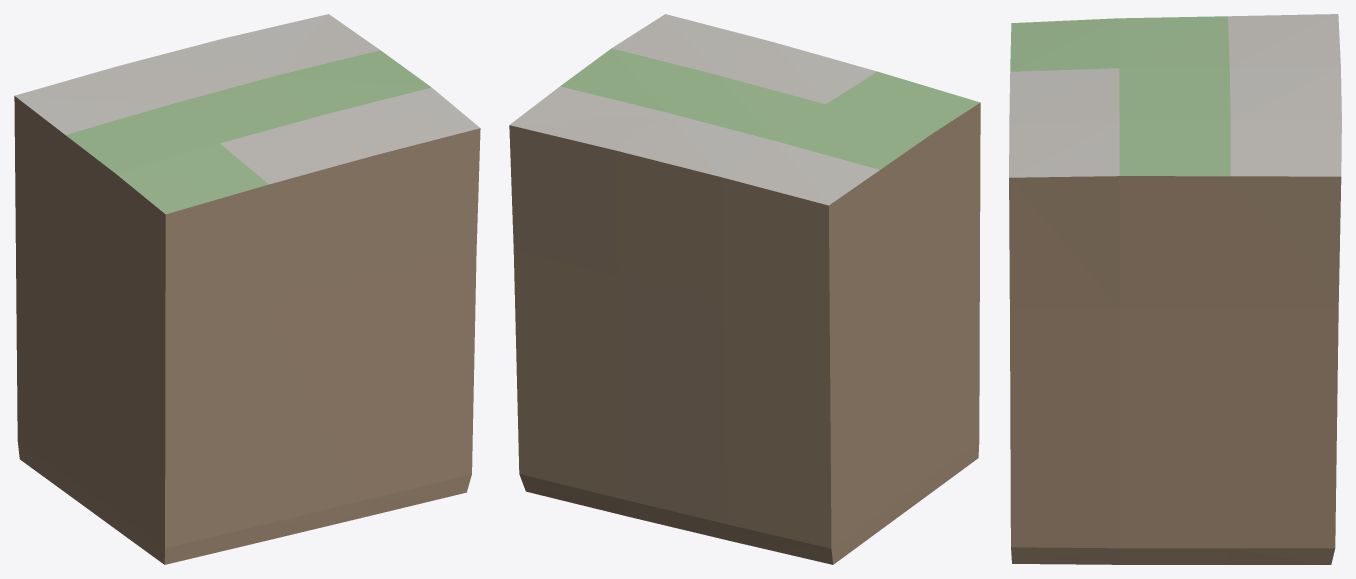
Rendered from STONE-00.glb.
3 views of the same model, side by side, from view 1: azimuth 30°, elevation 25°; view 2: azimuth 150°, elevation 25°; view 3: azimuth 270°, elevation 25° (orthographic). The views are drawn at different scales.
Parts seen in each view (by area): view 1: STONE-00; view 2: STONE-00; view 3: STONE-00.
Part boxes in pixels (x1=…): STONE-00: x1=14, y1=14, x2=480, y2=564; STONE-00: x1=509, y1=14, x2=980, y2=564; STONE-00: x1=1009, y1=14, x2=1341, y2=564.
Size of the model in its own units: 0.1843 by 0.2031 by 0.1549.
